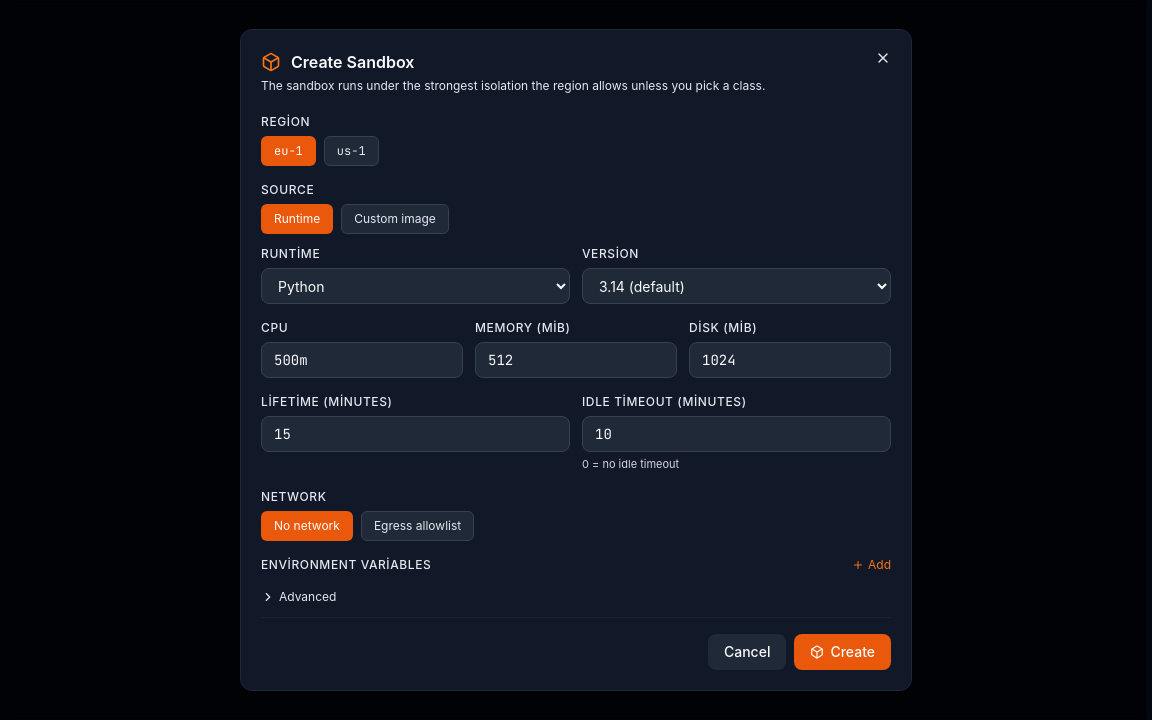
Test: CreateSandboxDialog › offers the enabled regions and the runtime catalog with the default version
This screenshot has width=1152, height=720.
Expected: the dropdown named "version" below "Version" shows "3.14 (default)", [582,268,891,304]
Select "Node.js" in the 1st dropdown named "runtime": (416, 286) [261,268,570,304]
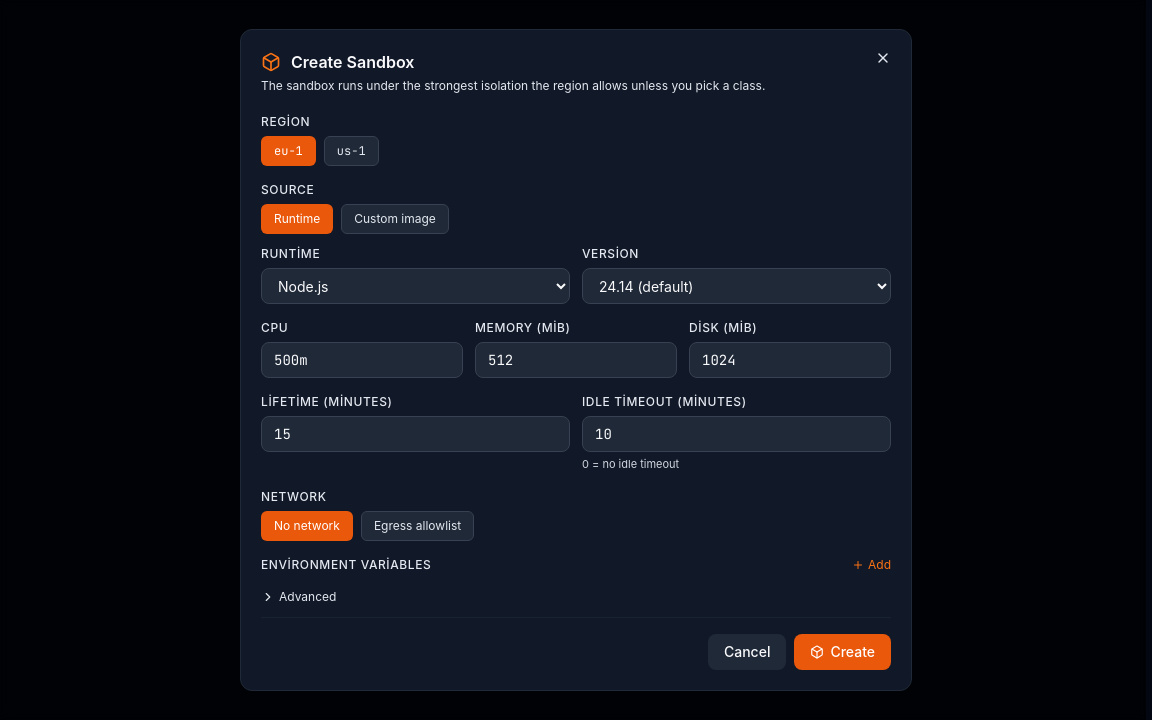
Expected: the dropdown named "version" below "Version" shows "24.14 (default)", [582,268,891,304]
